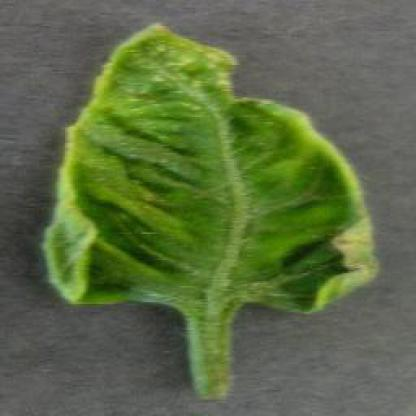bad leaf: (20, 6, 370, 401), (21, 57, 405, 116), (40, 139, 322, 200), (9, 234, 364, 280)
